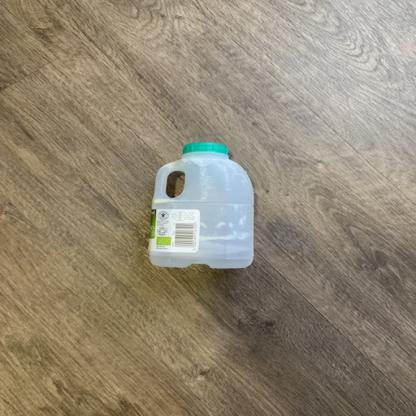trash: (145, 141, 256, 271)
